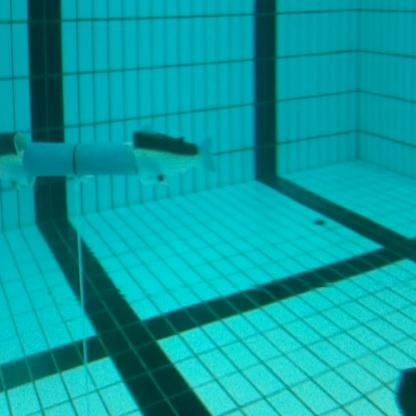tail: (133, 122, 221, 184)
